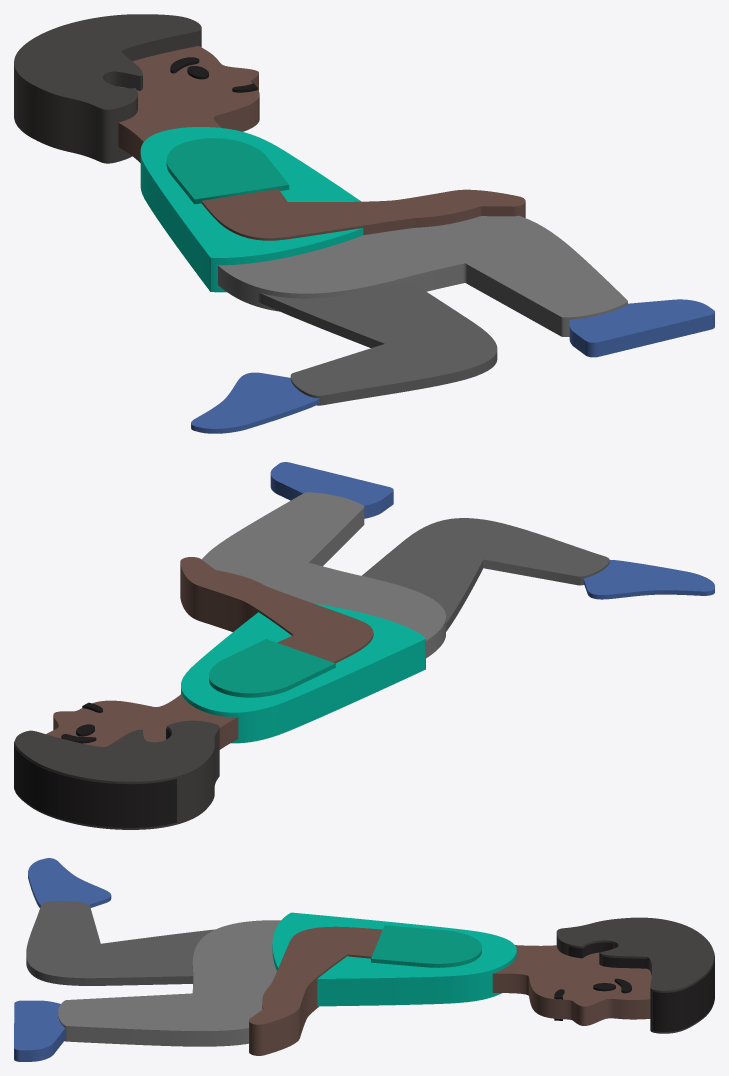
The model's file is emoji_u1f9ce_1f3ff_200d_2642_200d_27a1.glb.
3 renders of one model, top to bottom at view 1: azimuth 30°, elevation 25°; view 2: azimuth 150°, elevation 25°; view 3: azimuth 270°, elevation 25°, orthographic. The views are drawn at different scales.
Visible parts, largest first — view 1: emoji_u1f9ce_1f3ff_200d_2642_200d_27a1; view 2: emoji_u1f9ce_1f3ff_200d_2642_200d_27a1; view 3: emoji_u1f9ce_1f3ff_200d_2642_200d_27a1.
Boxes of the visible parts, <box> form: emoji_u1f9ce_1f3ff_200d_2642_200d_27a1: <box>14,14,714,433</box>; emoji_u1f9ce_1f3ff_200d_2642_200d_27a1: <box>14,462,714,829</box>; emoji_u1f9ce_1f3ff_200d_2642_200d_27a1: <box>14,858,714,1061</box>.
Bounding box in the file's own units: 0.0215 × 0.0022 × 0.0325.
